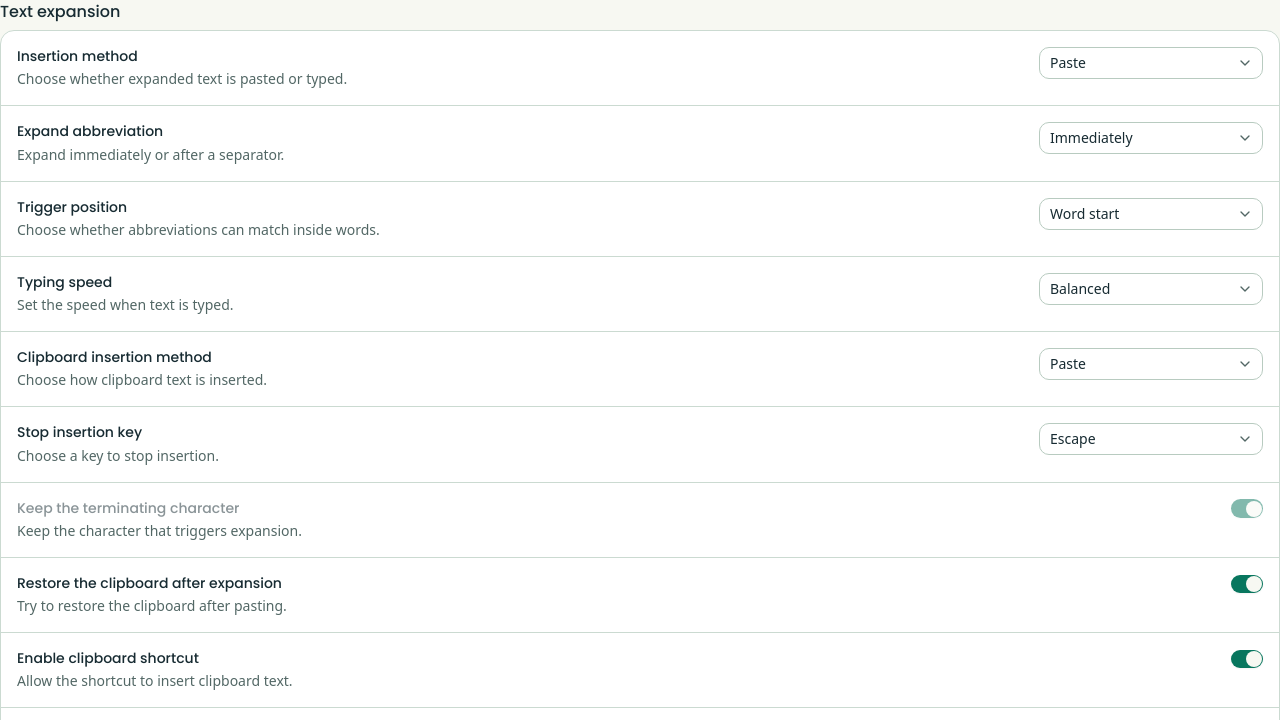
Test: keeps immediate activation and its disabled terminator control when a save fails
Select "After Space or punctuation" in the dropdown labelled "Expand abbreviation" at (1151, 138), box [1039,122,1263,154]
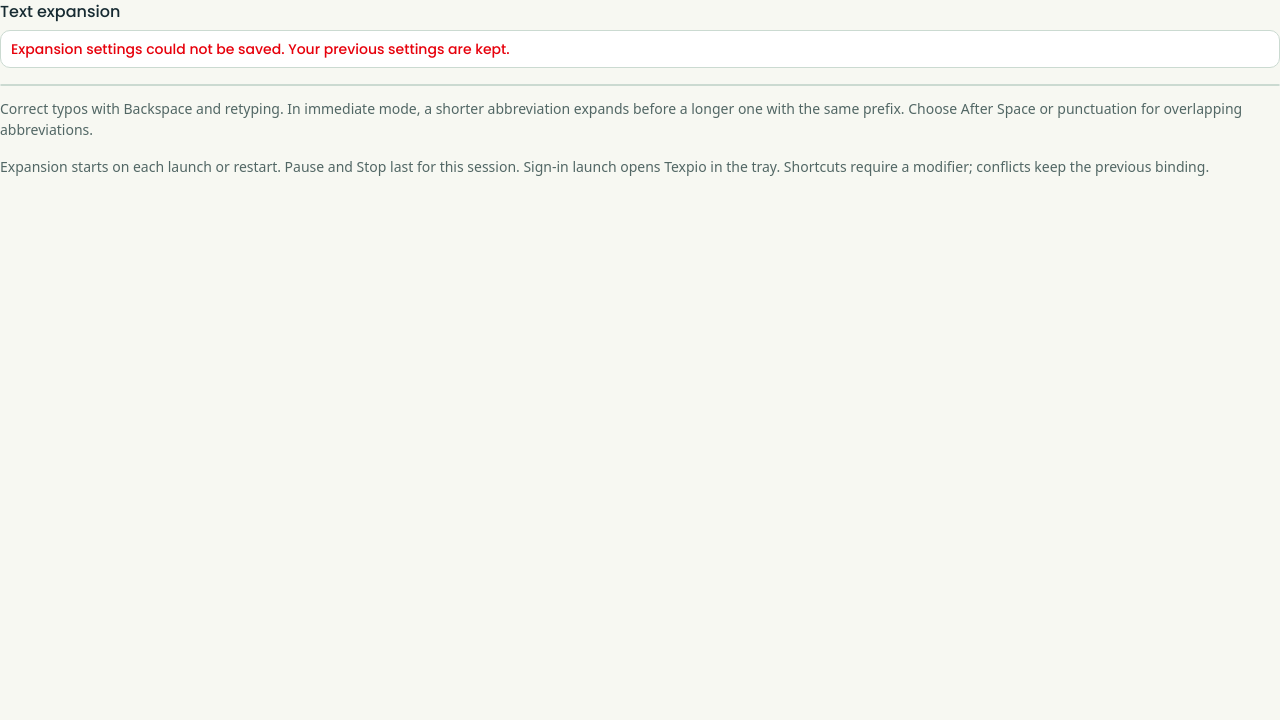
Now the message "Expansion settings could not be saved. Your previous settings are kept." is shown, box [0,30,1279,68]
